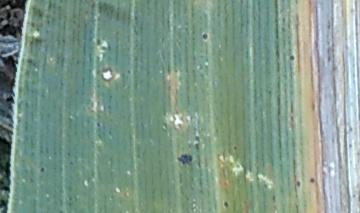tarspot: (174, 152, 193, 166), (270, 191, 278, 204), (200, 31, 209, 41), (287, 52, 295, 62), (193, 142, 201, 152), (307, 176, 316, 184), (193, 133, 201, 142), (125, 68, 133, 76), (222, 199, 229, 208), (294, 178, 301, 187), (38, 165, 45, 174), (349, 192, 358, 199), (346, 124, 353, 133), (230, 143, 238, 150), (95, 120, 101, 129), (347, 141, 354, 148), (65, 151, 72, 157)
